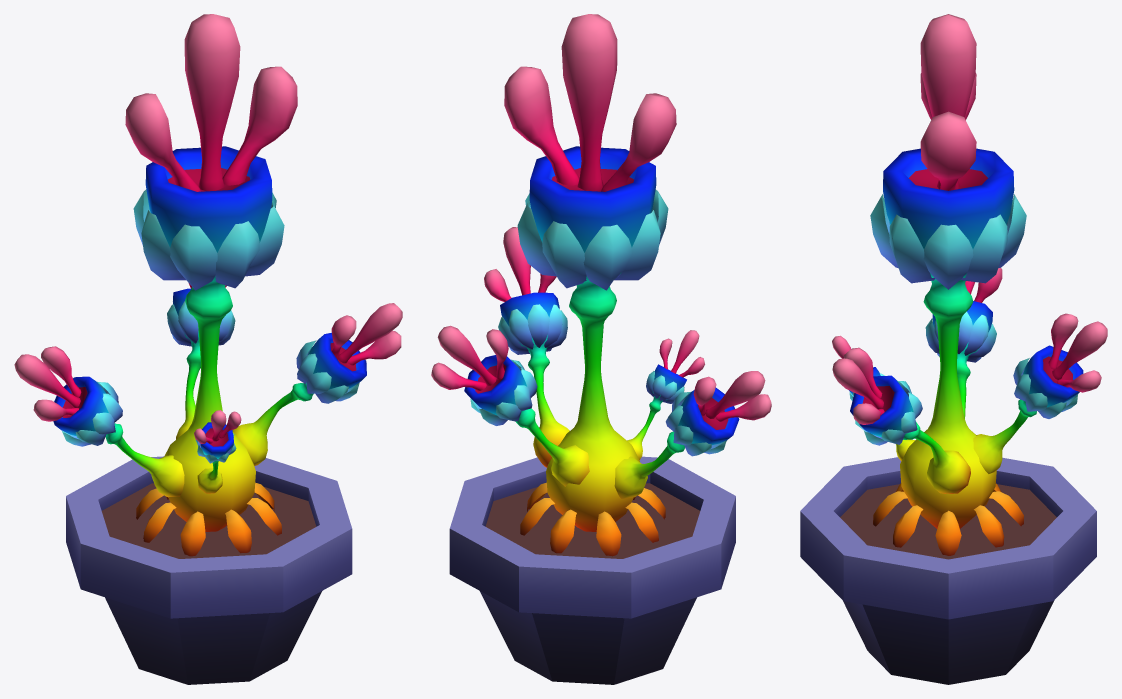
The model's file is wp_wPot_14.fbx.
3 renders of one model, left to right at view 1: azimuth 30°, elevation 25°; view 2: azimuth 150°, elevation 25°; view 3: azimuth 270°, elevation 25°, orthographic.
Parts seen in each view (by area): view 1: w_pl14; view 2: w_pl14; view 3: w_pl14.
Boxes of the visible parts, box(x1,y1,x2,y2) form: w_pl14: box(14, 14, 402, 684); w_pl14: box(431, 14, 771, 684); w_pl14: box(800, 14, 1107, 684).
Bounding box in the file's own units: 141 × 259 × 113.
